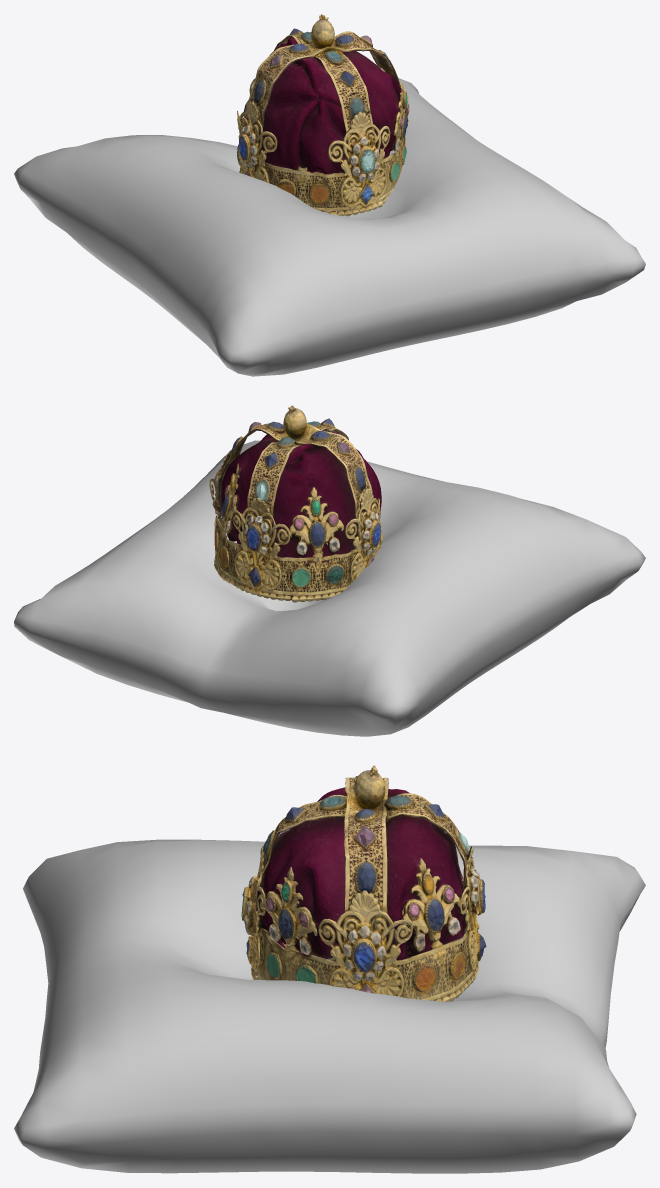
The model's file is SM_Crone_02.fbx.
3 views of the same model, one above another, from view 1: azimuth 30°, elevation 25°; view 2: azimuth 150°, elevation 25°; view 3: azimuth 270°, elevation 25° (orthographic). The views are drawn at different scales.
Visible parts, largest first — view 1: defaultMaterial.006, Rz_A_116_Korona_krolewska__3; view 2: defaultMaterial.006, Rz_A_116_Korona_krolewska__3; view 3: defaultMaterial.006, Rz_A_116_Korona_krolewska__3.
Part boxes in pixels (box(x1,y1,x2,y2)): defaultMaterial.006: box(14, 78, 645, 376); Rz_A_116_Korona_krolewska__3: box(237, 14, 409, 216); defaultMaterial.006: box(14, 440, 645, 736); Rz_A_116_Korona_krolewska__3: box(209, 405, 382, 602); defaultMaterial.006: box(14, 839, 645, 1173); Rz_A_116_Korona_krolewska__3: box(241, 765, 486, 1001).
Size of the model in its own units: 127 by 73.25 by 129.
